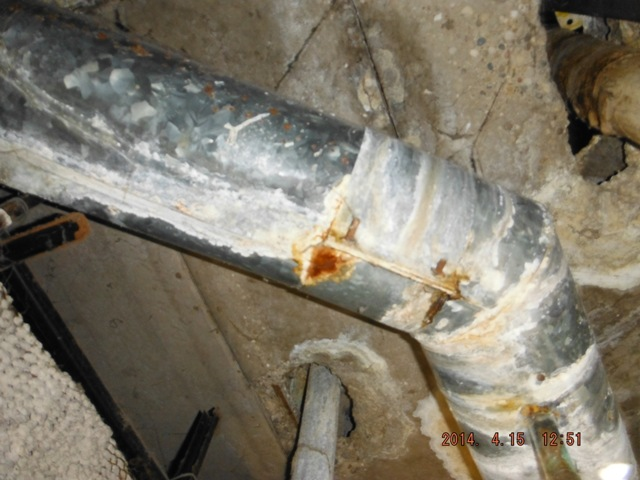Moderate: (290, 176, 471, 336)
